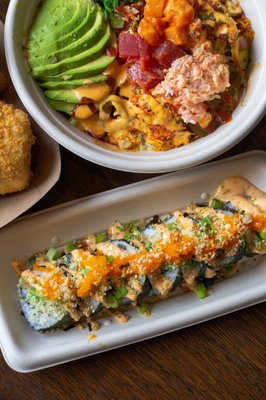sushi: (4, 0, 266, 172)
